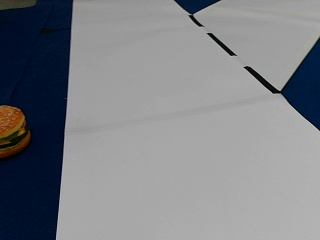burger: (0, 106, 31, 161)
